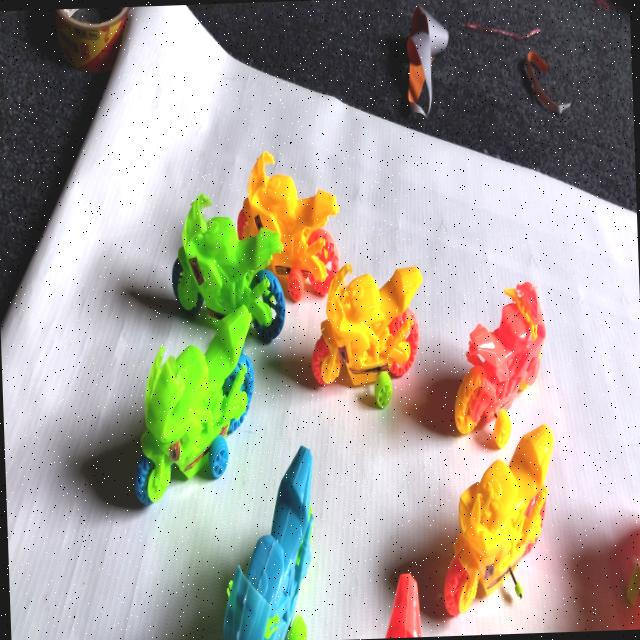bikes: (135, 308, 253, 504), (444, 424, 554, 614), (223, 446, 312, 640), (172, 193, 285, 343), (312, 266, 422, 407), (237, 151, 339, 301), (454, 281, 545, 448)
others: (55, 6, 130, 72), (407, 6, 448, 116), (525, 51, 570, 113), (465, 22, 540, 39), (591, 0, 608, 10)
